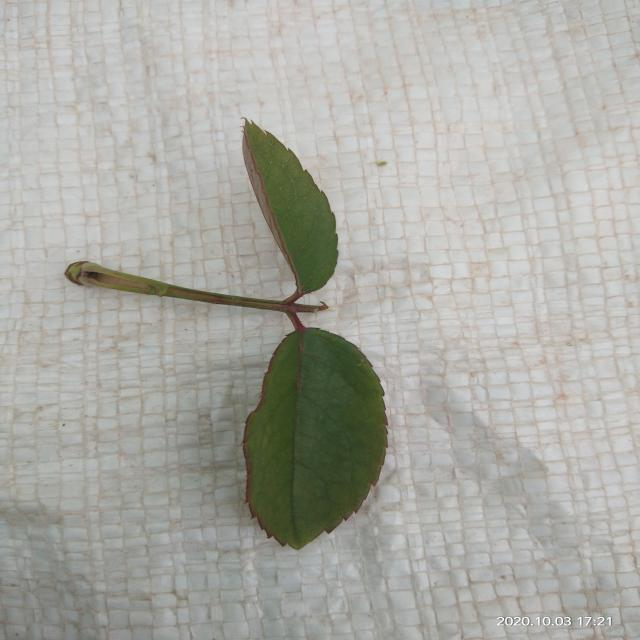rose: (217, 121, 387, 549)
